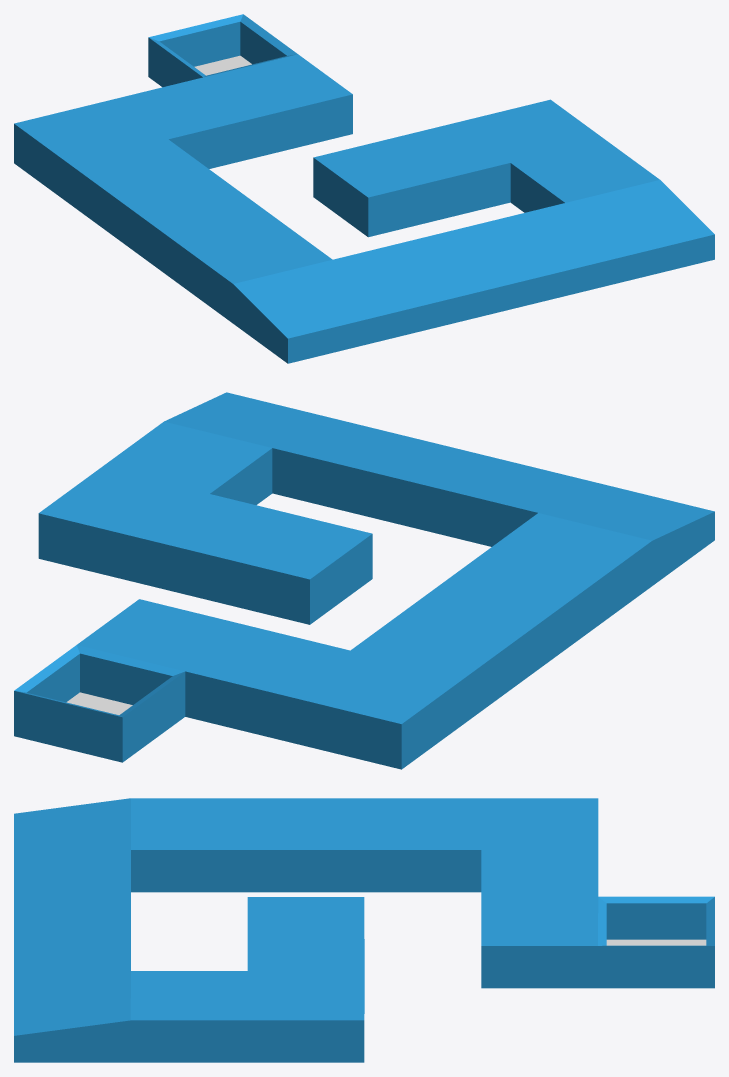
File: Taliturtle_Level_02.fbx
3 views of the same model, one above another, from view 1: azimuth 30°, elevation 25°; view 2: azimuth 150°, elevation 25°; view 3: azimuth 270°, elevation 25° (orthographic). The views are drawn at different scales.
Visible parts, largest first — view 1: level, goal; view 2: level, goal; view 3: level, goal.
Boxes of the visible parts, x1=… form: level: x1=14, y1=14, x2=714, y2=363; goal: x1=194, y1=55, x2=251, y2=75; level: x1=14, y1=392, x2=714, y2=769; goal: x1=66, y1=692, x2=132, y2=714; level: x1=14, y1=798, x2=714, y2=1062; goal: x1=606, y1=939, x2=706, y2=945.
Size of what is drawn, in the model's own units: 900 by 80 by 1200.
